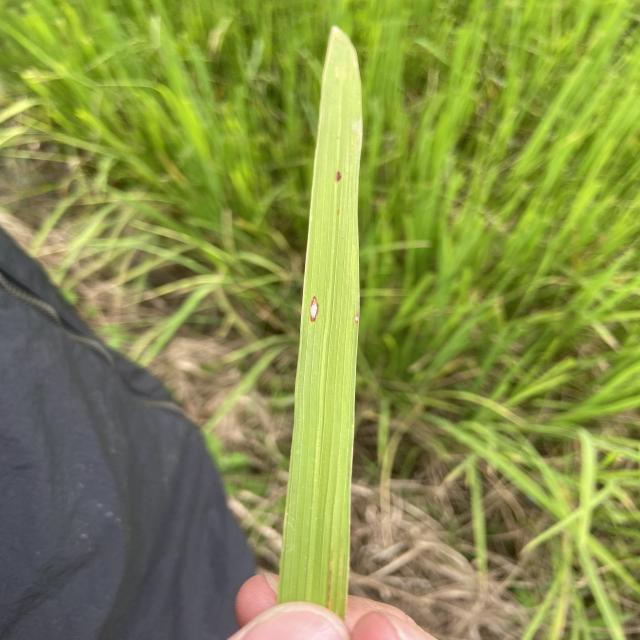Dao on: (309, 296, 319, 322), (354, 310, 359, 324)
